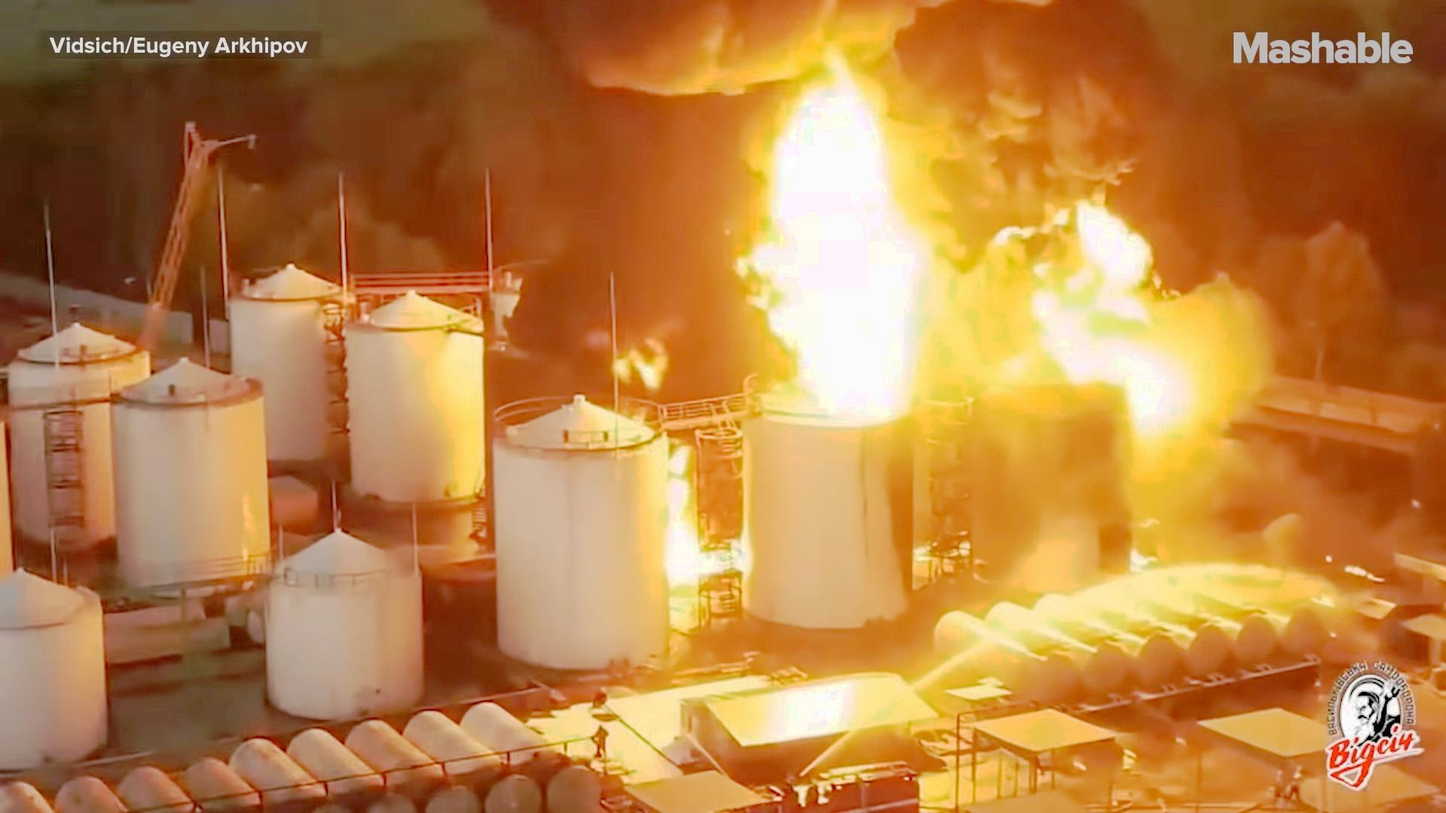fire: (742, 78, 912, 404), (1021, 221, 1186, 416)
smoke: (912, 0, 1134, 200), (567, 0, 1117, 78), (1175, 57, 1446, 201)
